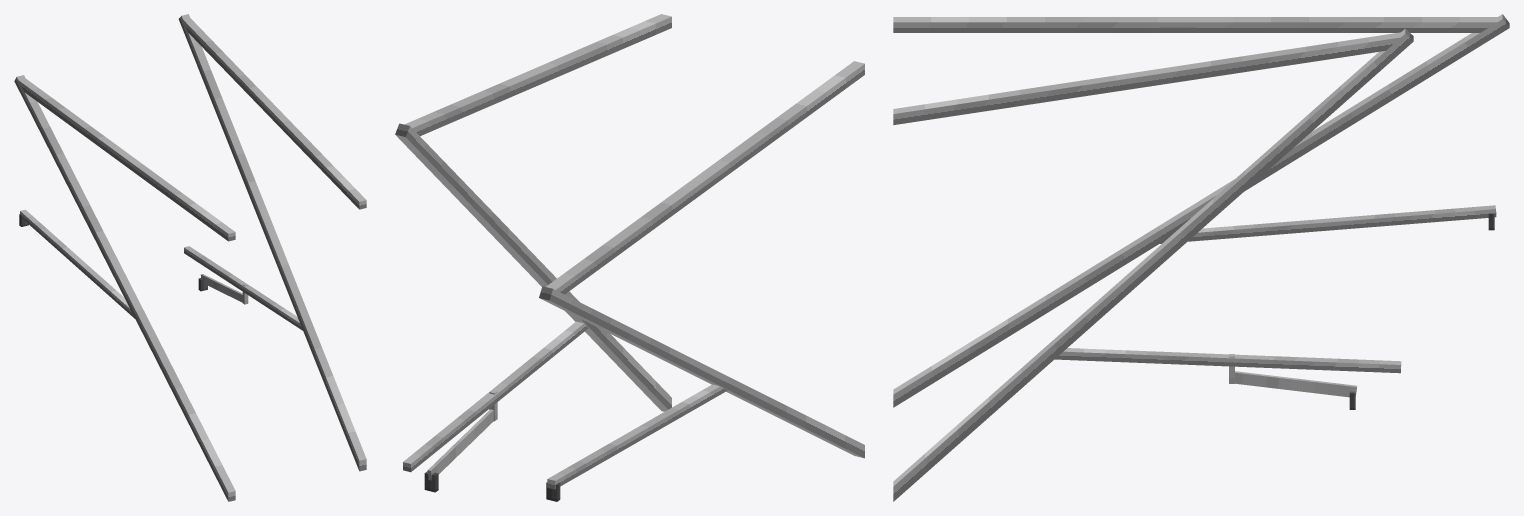
Rendered from cantilever_inner_12px.obj.
The picture shows the model from 3 angles, left to right: view 1: azimuth 30°, elevation 25°; view 2: azimuth 150°, elevation 25°; view 3: azimuth 270°, elevation 25°; orthographic projection. The views are drawn at different scales.
Visible parts, largest first — view 1: 29021b7b-c3d9-4790-a4b9-a37009fa2f11, 02ed6b57-b345-40d2-a534-0808de2d24a8, 9026dc94-e969-4fe1-a78c-9a26b536c998, db0860bc-2759-42b0-a1c8-1e57ef03fc3e, 5ed65f20-d4d1-44f7-87a3-d1d334db5679, a3acc608-6ce1-4aa4-97ca-51a7a629c400, 92ef43de-6340-43ca-9f9d-f67786ee4391; view 2: 9026dc94-e969-4fe1-a78c-9a26b536c998, 29021b7b-c3d9-4790-a4b9-a37009fa2f11, 02ed6b57-b345-40d2-a534-0808de2d24a8, db0860bc-2759-42b0-a1c8-1e57ef03fc3e, a3acc608-6ce1-4aa4-97ca-51a7a629c400, 5ed65f20-d4d1-44f7-87a3-d1d334db5679, 92ef43de-6340-43ca-9f9d-f67786ee4391; view 3: 29021b7b-c3d9-4790-a4b9-a37009fa2f11, 02ed6b57-b345-40d2-a534-0808de2d24a8, 9026dc94-e969-4fe1-a78c-9a26b536c998, db0860bc-2759-42b0-a1c8-1e57ef03fc3e, a3acc608-6ce1-4aa4-97ca-51a7a629c400, 5ed65f20-d4d1-44f7-87a3-d1d334db5679, 92ef43de-6340-43ca-9f9d-f67786ee4391.
Part boxes in pixels (bbox=[...]): 29021b7b-c3d9-4790-a4b9-a37009fa2f11: bbox=[178, 14, 366, 471]; 02ed6b57-b345-40d2-a534-0808de2d24a8: bbox=[14, 75, 235, 501]; 9026dc94-e969-4fe1-a78c-9a26b536c998: bbox=[18, 78, 235, 241]; db0860bc-2759-42b0-a1c8-1e57ef03fc3e: bbox=[183, 18, 366, 209]; 5ed65f20-d4d1-44f7-87a3-d1d334db5679: bbox=[20, 209, 134, 318]; a3acc608-6ce1-4aa4-97ca-51a7a629c400: bbox=[184, 246, 302, 330]; 92ef43de-6340-43ca-9f9d-f67786ee4391: bbox=[200, 274, 242, 302]; 9026dc94-e969-4fe1-a78c-9a26b536c998: bbox=[546, 61, 864, 294]; 29021b7b-c3d9-4790-a4b9-a37009fa2f11: bbox=[395, 123, 671, 411]; 02ed6b57-b345-40d2-a534-0808de2d24a8: bbox=[539, 286, 864, 458]; db0860bc-2759-42b0-a1c8-1e57ef03fc3e: bbox=[404, 14, 671, 135]; a3acc608-6ce1-4aa4-97ca-51a7a629c400: bbox=[403, 321, 588, 472]; 5ed65f20-d4d1-44f7-87a3-d1d334db5679: bbox=[547, 384, 727, 489]; 92ef43de-6340-43ca-9f9d-f67786ee4391: bbox=[427, 409, 493, 480]; 29021b7b-c3d9-4790-a4b9-a37009fa2f11: bbox=[893, 28, 1413, 501]; 02ed6b57-b345-40d2-a534-0808de2d24a8: bbox=[893, 14, 1509, 407]; 9026dc94-e969-4fe1-a78c-9a26b536c998: bbox=[893, 17, 1497, 32]; db0860bc-2759-42b0-a1c8-1e57ef03fc3e: bbox=[893, 32, 1400, 125]; a3acc608-6ce1-4aa4-97ca-51a7a629c400: bbox=[1054, 348, 1401, 373]; 5ed65f20-d4d1-44f7-87a3-d1d334db5679: bbox=[1160, 205, 1496, 243]; 92ef43de-6340-43ca-9f9d-f67786ee4391: bbox=[1235, 371, 1357, 397].
Bounding box in the file's own units: 1.19 × 2.67 × 3.19.
